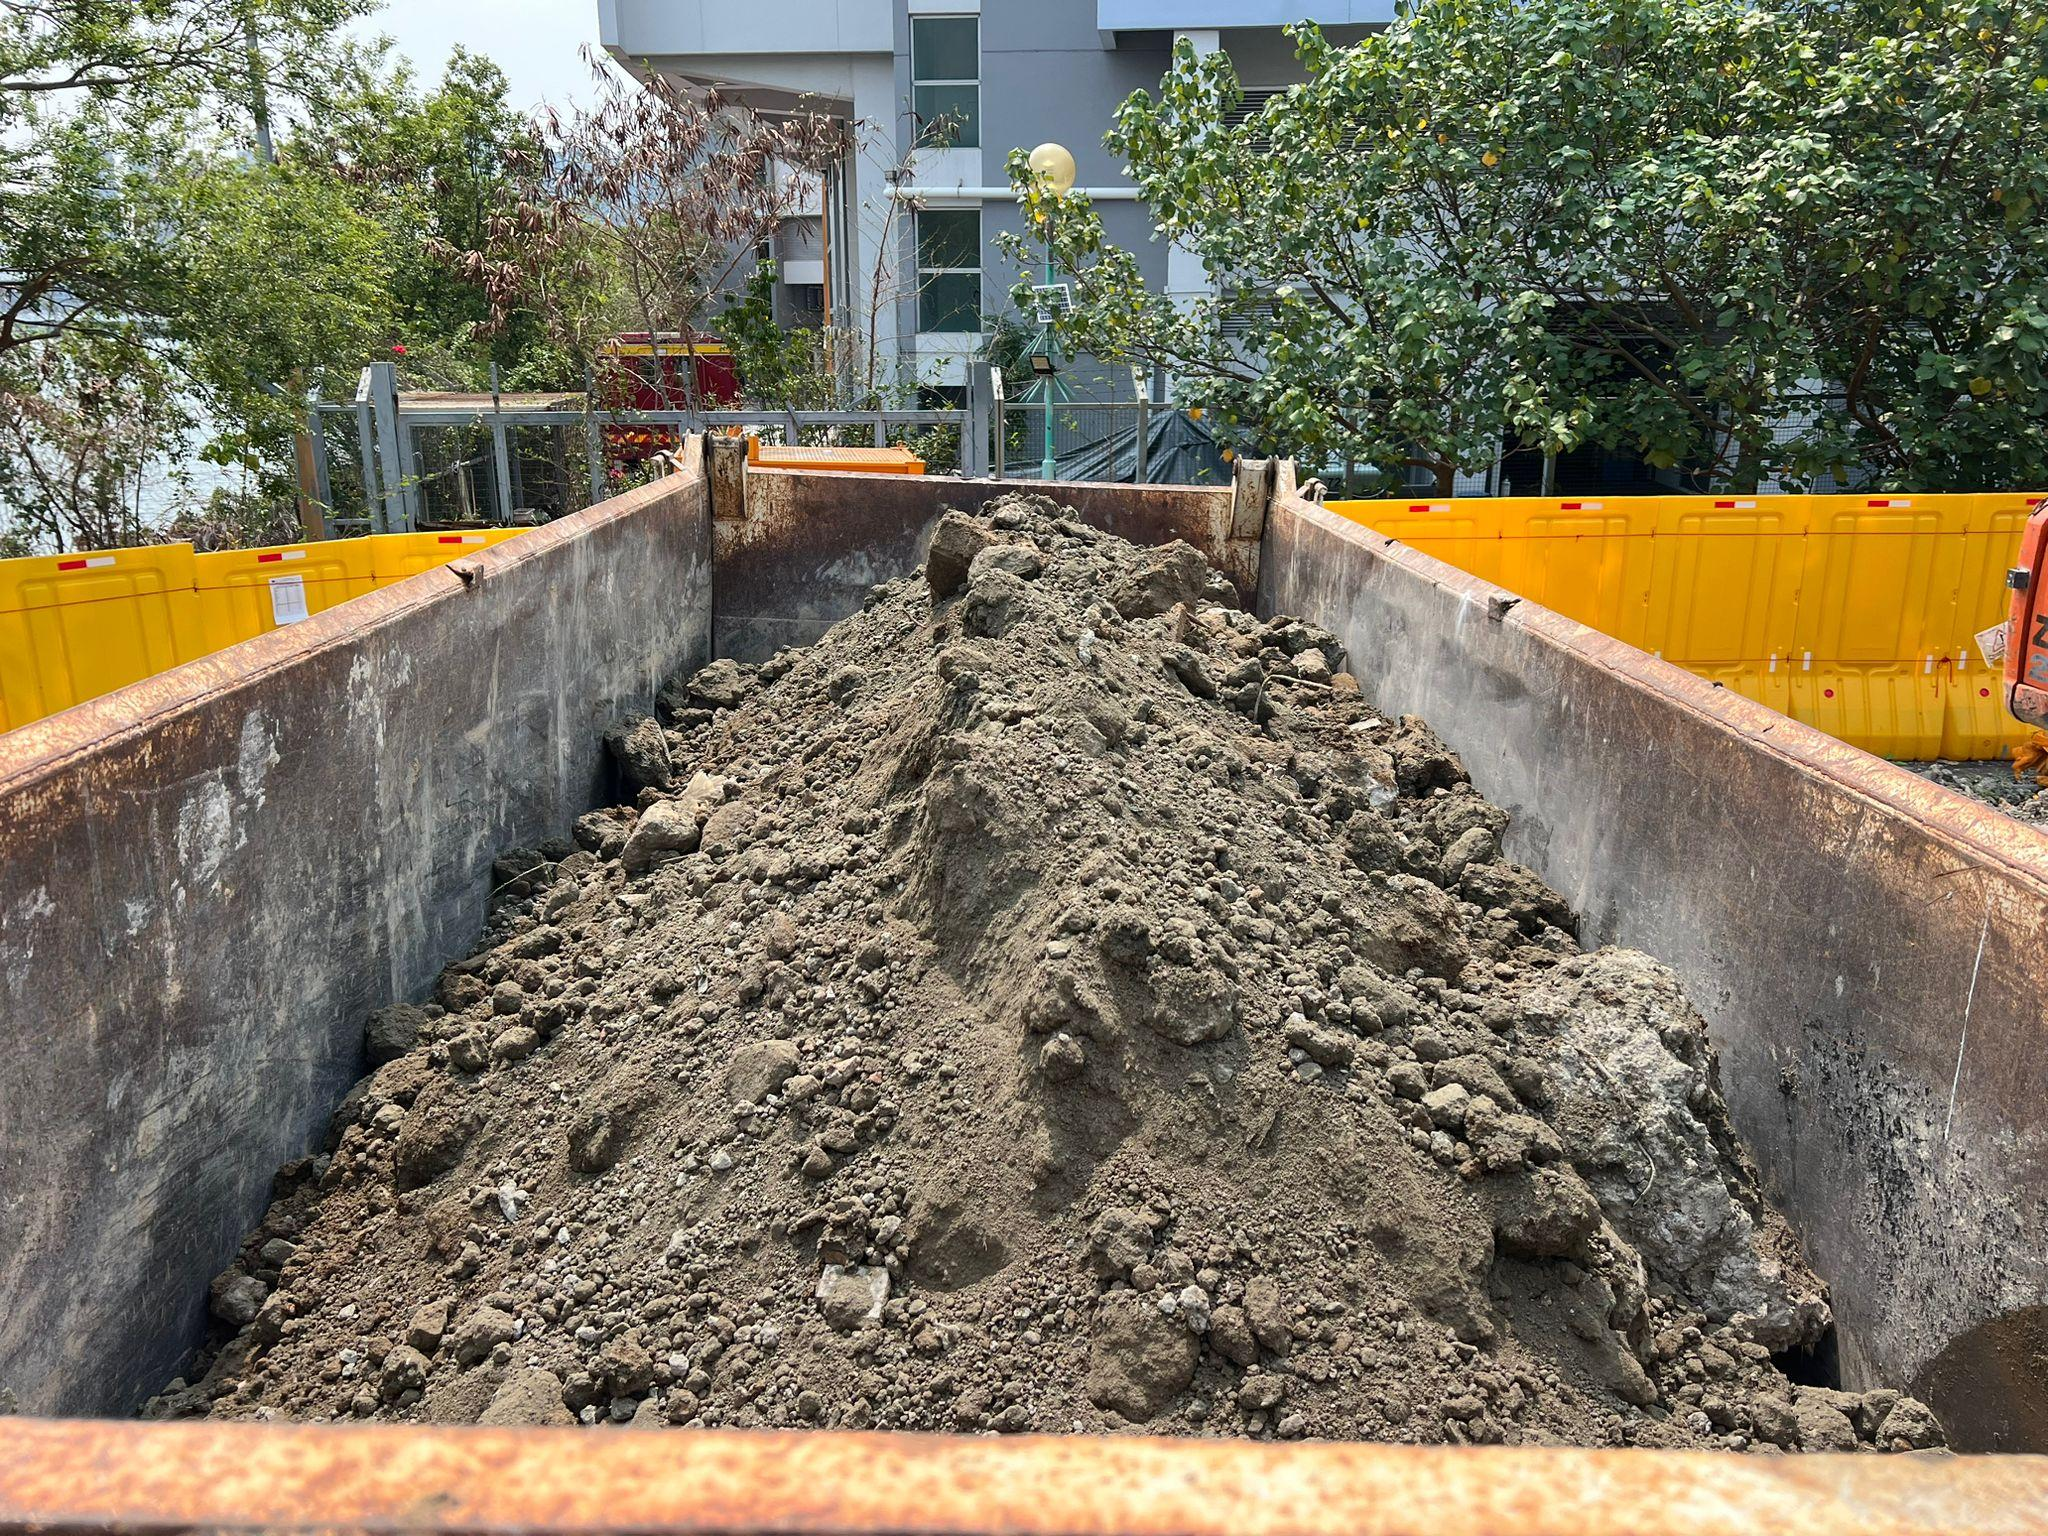dry: (131, 518, 1958, 1447)
